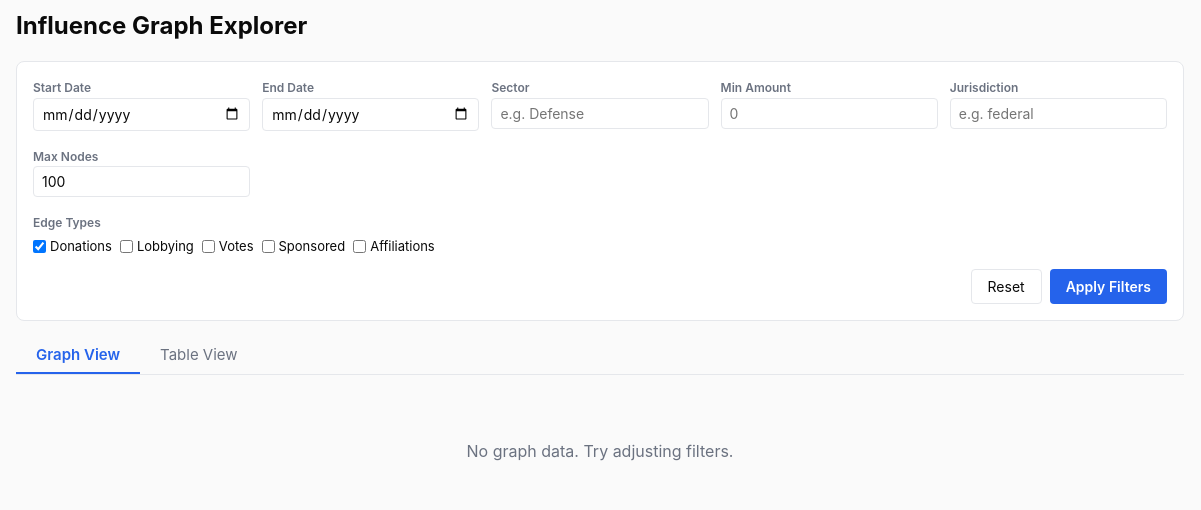
it: GraphPage › switches to table view and fetches table data
# Switch to table view
Click the button "Table View" at {"x": 199, "y": 355}, box [140, 337, 258, 374]
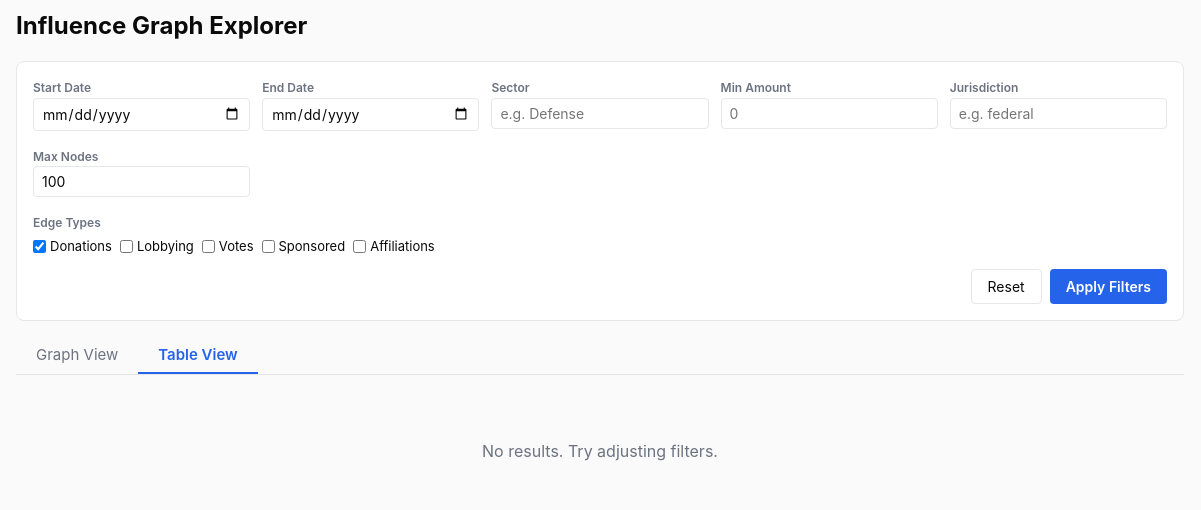
# Apply filters
Click the button "Apply Filters" at {"x": 1108, "y": 286}, box [1050, 269, 1167, 304]
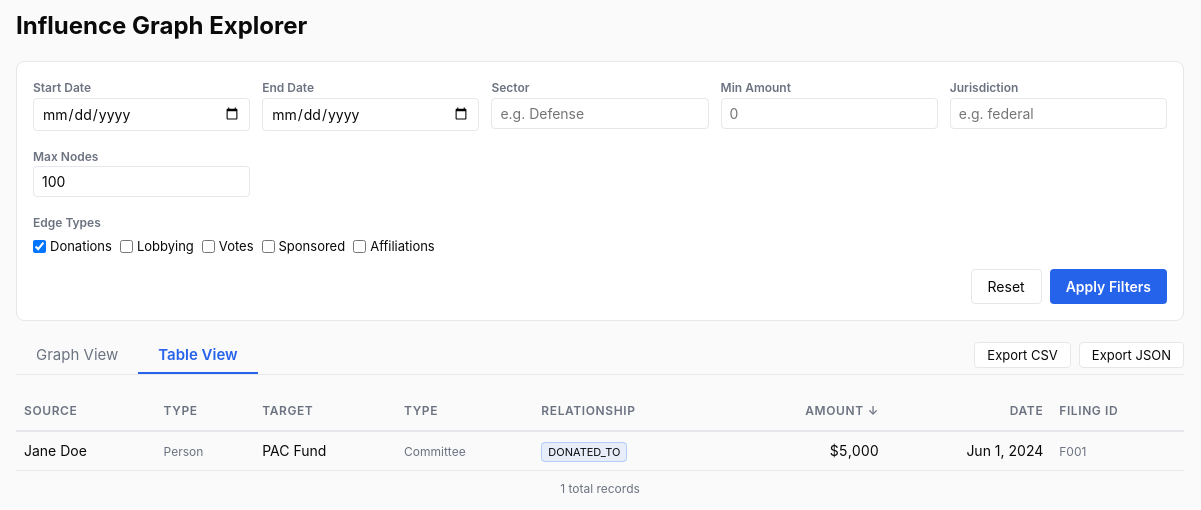
Check: the text "Jane Doe" is shown, box [16, 431, 156, 471]
Check: the text "PAC Fund" is shown, box [254, 431, 396, 471]
